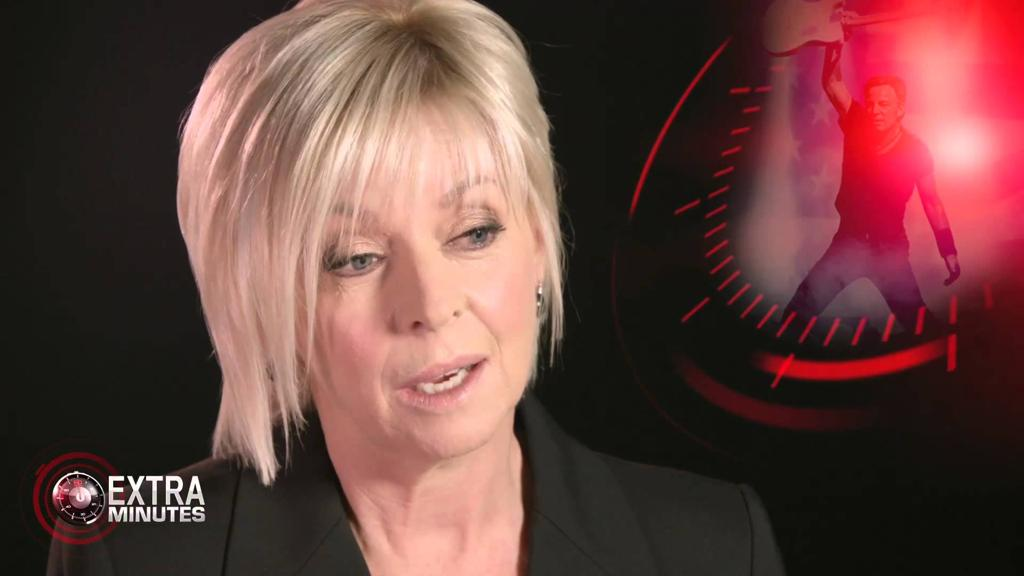face: (302, 86, 538, 450), (868, 90, 900, 131)
